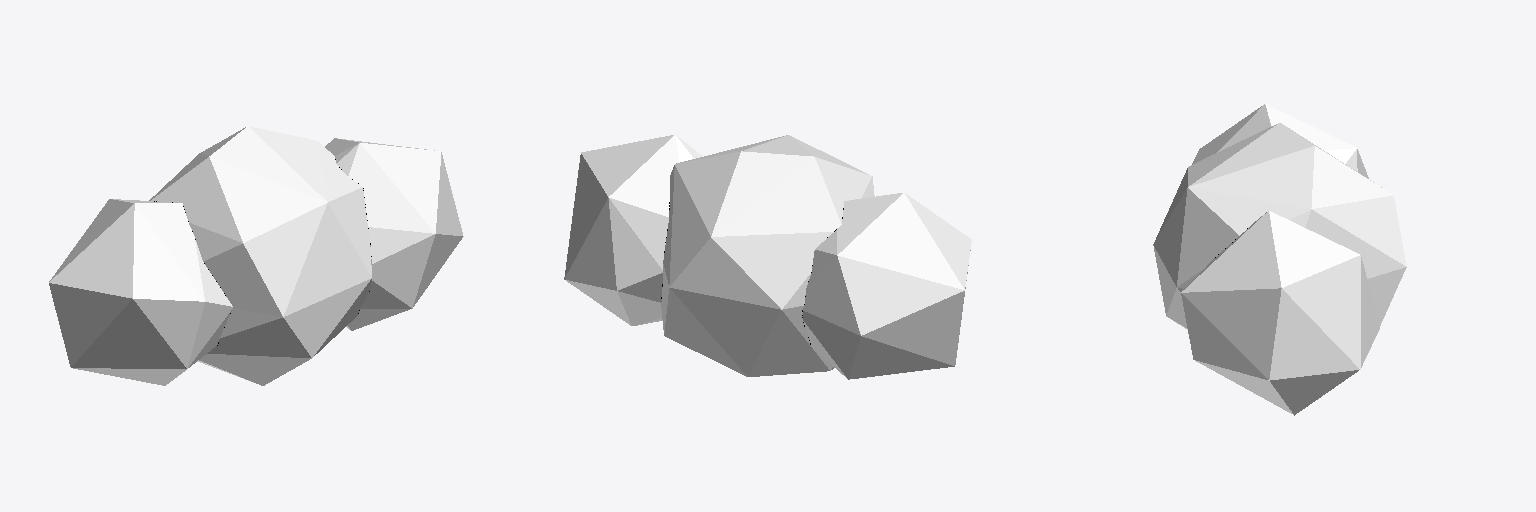
3 renders of one model, left to right at view 1: azimuth 30°, elevation 25°; view 2: azimuth 150°, elevation 25°; view 3: azimuth 270°, elevation 25°, orthographic.
Visible parts, largest first — view 1: Cloud_1_Icosphere.044; view 2: Cloud_1_Icosphere.044; view 3: Cloud_1_Icosphere.044.
Part boxes in pixels (bbox=[...]): Cloud_1_Icosphere.044: bbox=[49, 126, 463, 385]; Cloud_1_Icosphere.044: bbox=[564, 135, 971, 379]; Cloud_1_Icosphere.044: bbox=[1153, 104, 1406, 415].
Bounding box in the file's own units: 3.66 × 1.99 × 1.99.
Materials: 1 (1 with a texture image).